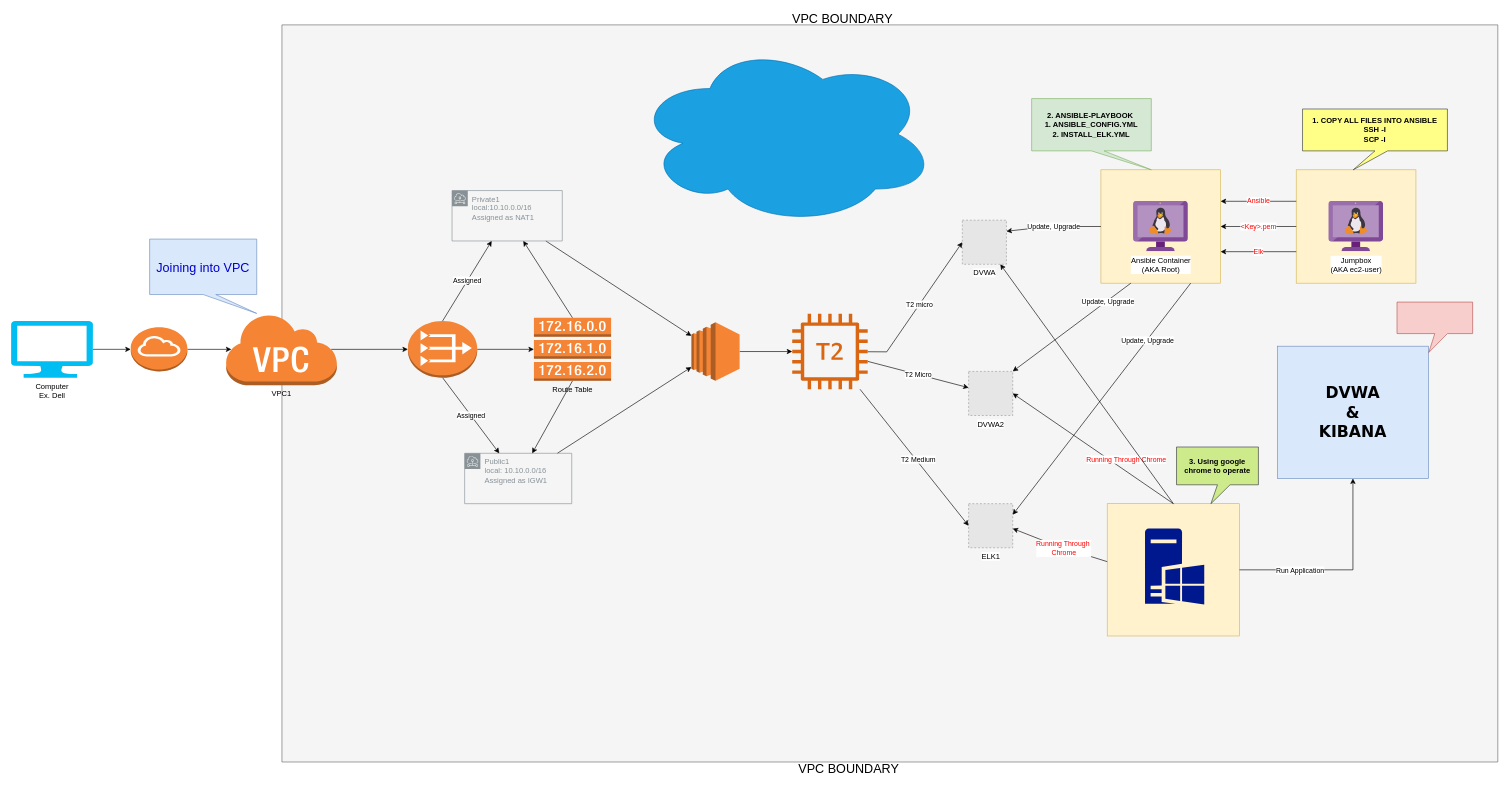
This 1509x786 diagram has some shape labels left out. Grey dashed boxes stand in for pictures. Here are the shapes that lost their labels. From the top down, the centre of each, then its label:
the point at 785,134: AWS Cloud Diagram
the point at 1434,326: 4. Final Outcome
the point at 158,349: Internet Gateway IGW1
the point at 442,349: NAT1
the point at 715,351: EC2 Instance
the point at 829,351: T2
the point at 1174,566: Windows
